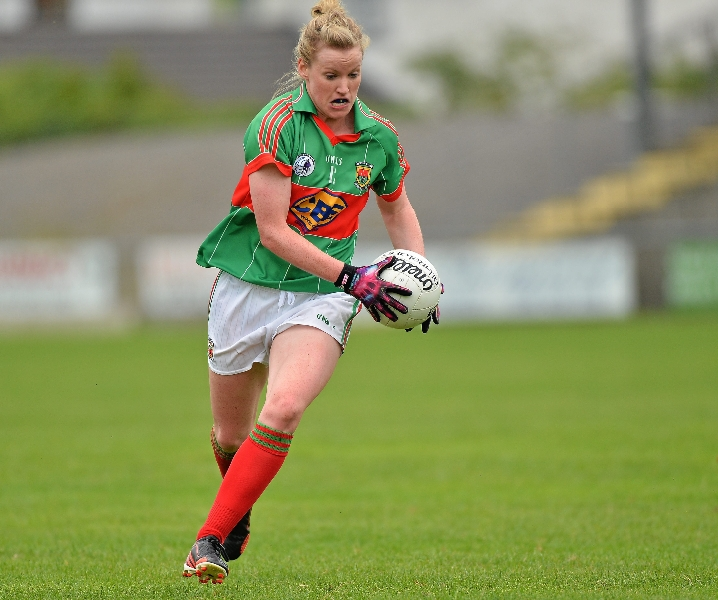ball: (352, 245, 438, 335)
player: (198, 1, 466, 560)
